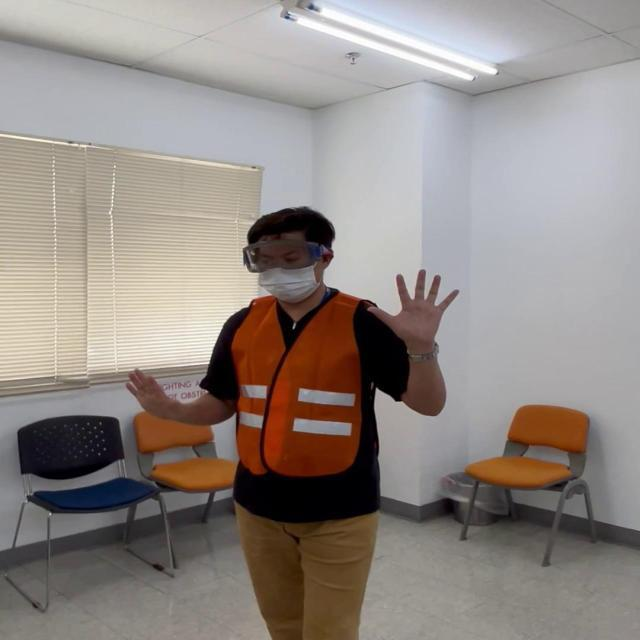bare_hand: (363, 265, 462, 349), (123, 364, 181, 423)
